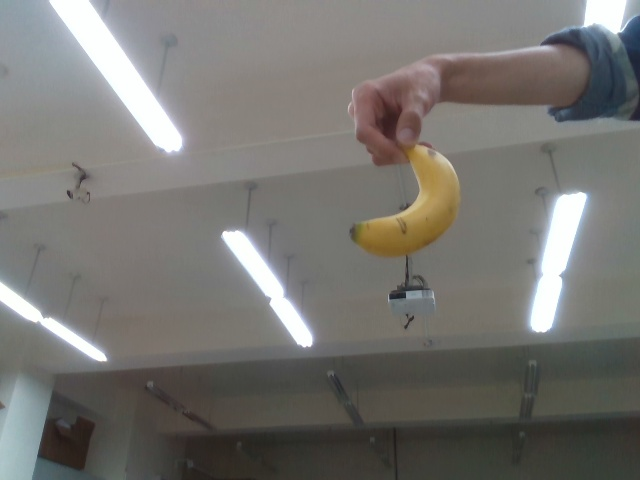banana: (348, 144, 463, 261)
